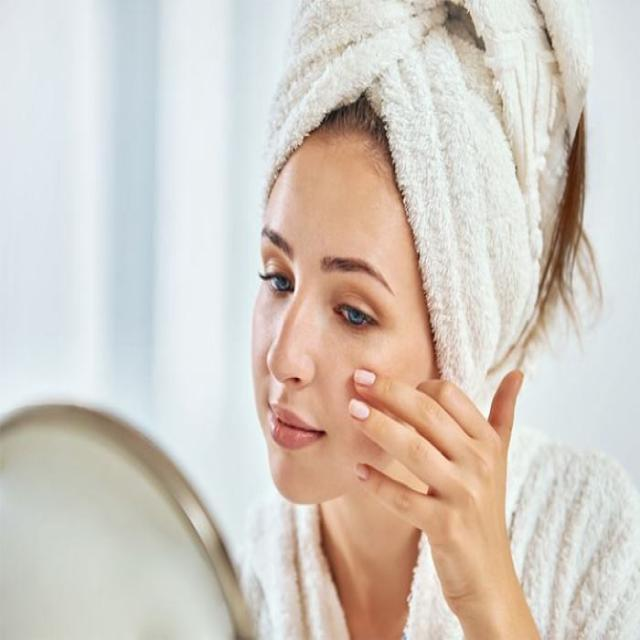oily: (370, 182, 400, 278), (296, 283, 324, 344), (275, 153, 293, 237)
